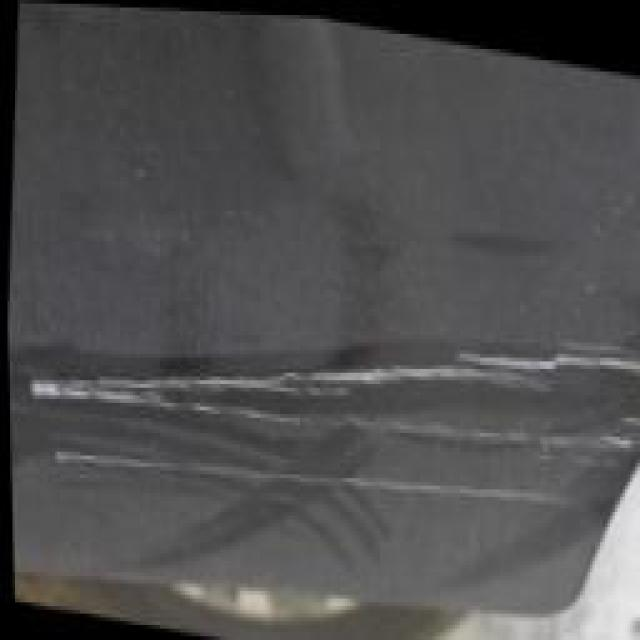Door: (5, 218, 640, 572)
